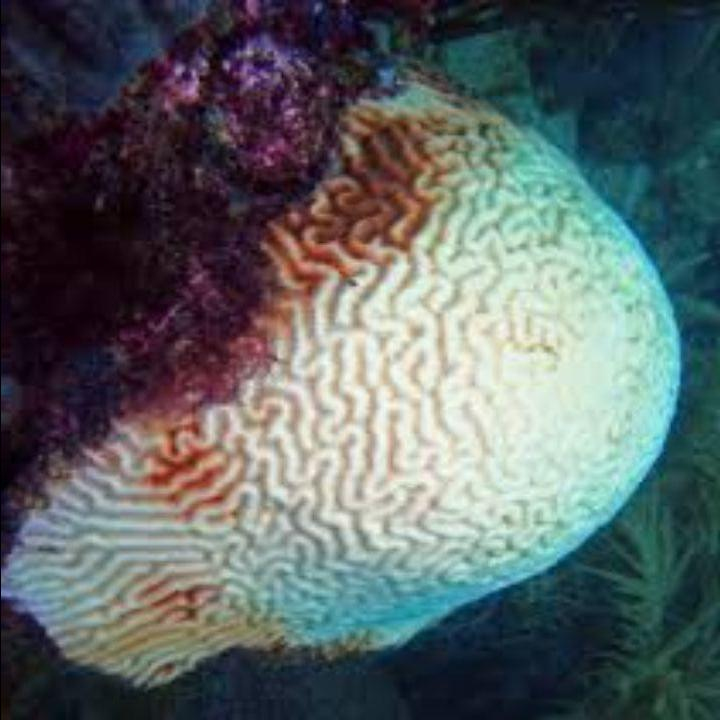Bleached disease: (14, 83, 703, 688)
